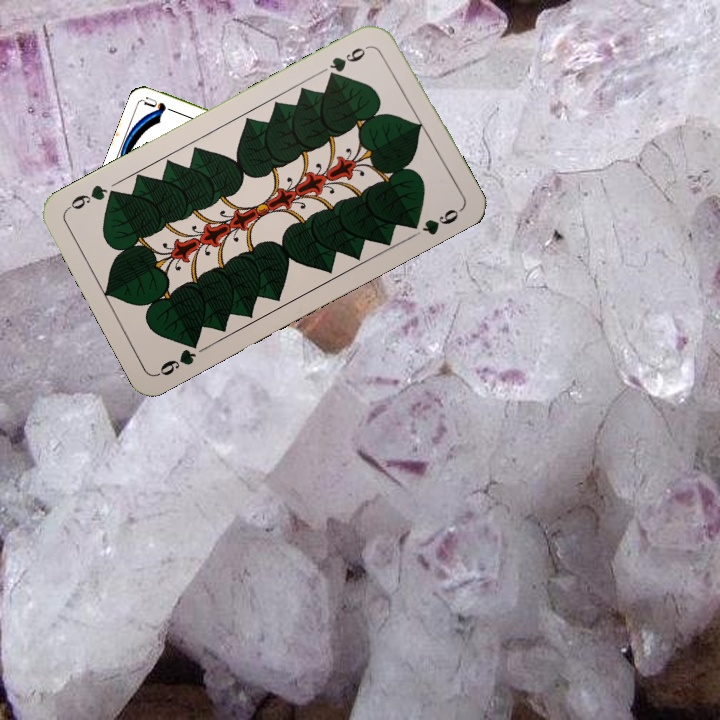G9: (154, 334, 203, 379), (324, 41, 374, 82)
